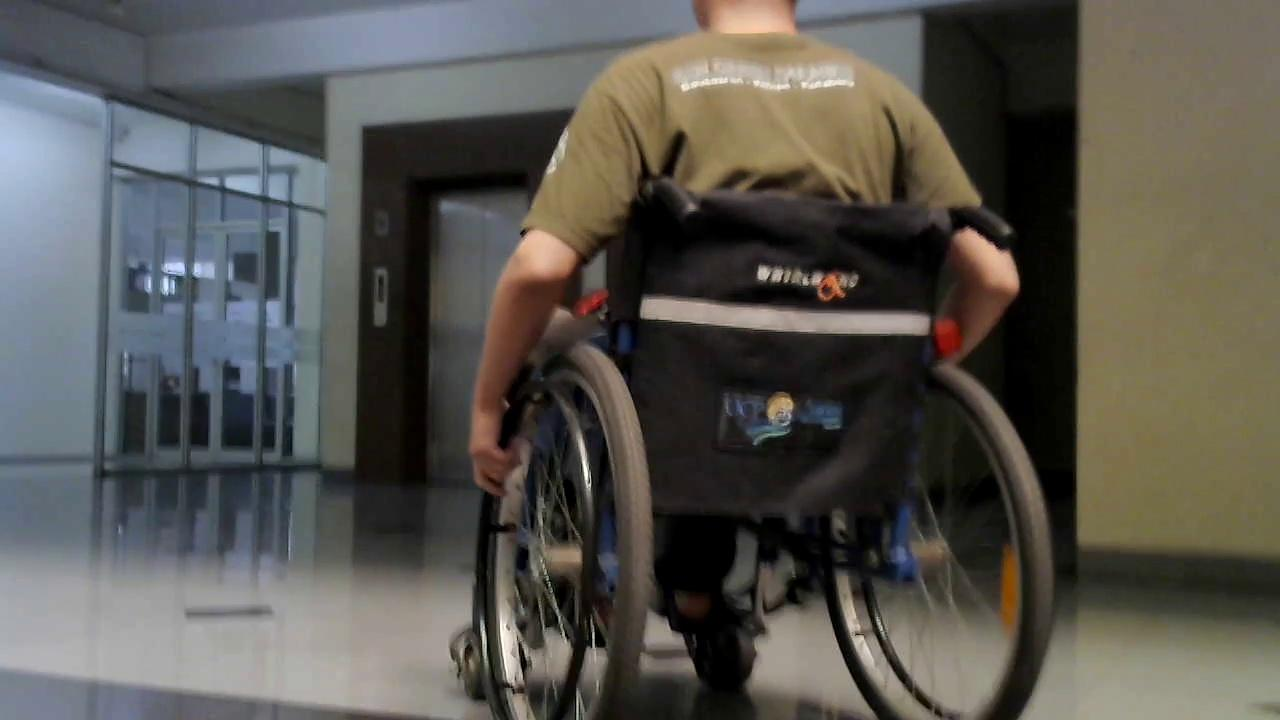person: (464, 4, 1023, 704)
wheelchair: (392, 160, 1088, 720)
